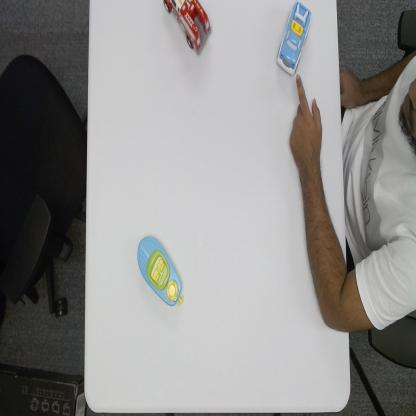Arm: (301, 170, 345, 329)
Boat: (137, 234, 185, 309)
Car: (276, 0, 313, 76)
Firetruck: (160, 0, 211, 58)
Hand: (287, 72, 323, 172)
